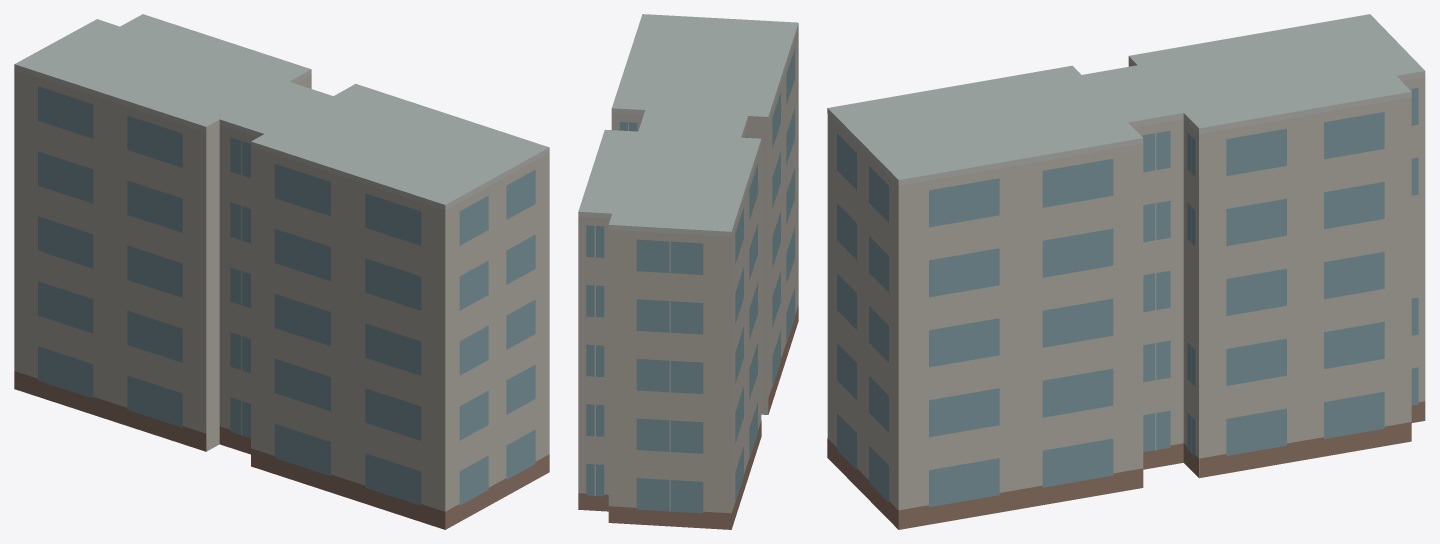
File: survey-upis-32457622.glb
The picture shows the model from 3 angles, left to right: view 1: azimuth 30°, elevation 25°; view 2: azimuth 150°, elevation 25°; view 3: azimuth 270°, elevation 25°; orthographic projection. The views are drawn at different scales.
Visible parts, largest first — view 1: survey-upis-32457622.tmp; view 2: survey-upis-32457622.tmp; view 3: survey-upis-32457622.tmp.
Part boxes in pixels (x1,y1,x2,y2): survey-upis-32457622.tmp: (14, 14, 549, 529); survey-upis-32457622.tmp: (578, 14, 798, 529); survey-upis-32457622.tmp: (827, 14, 1425, 529).
Size of the model in its own units: 15.06 by 14.78 by 22.9.
